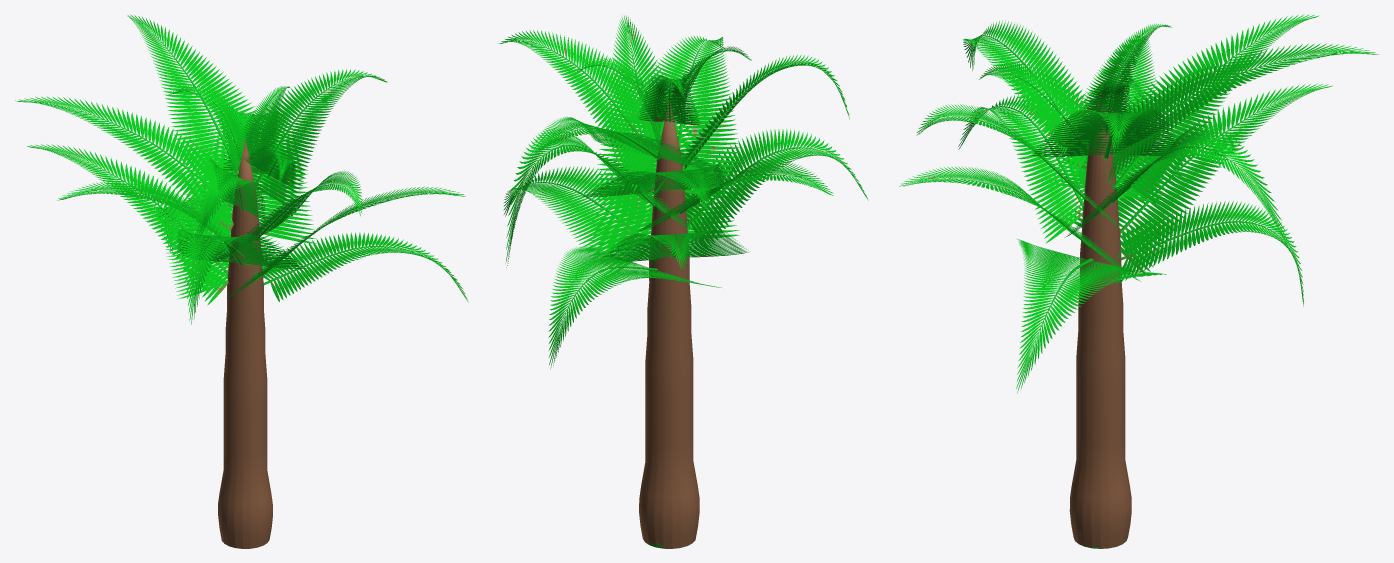
File: Palmera.fbx
The picture shows the model from 3 angles, left to right: view 1: azimuth 30°, elevation 25°; view 2: azimuth 150°, elevation 25°; view 3: azimuth 270°, elevation 25°; orthographic projection. The views are drawn at different scales.
Parts seen in each view (by area): view 1: palmera1; view 2: palmera1; view 3: palmera1.
Boxes of the visible parts, x1,y1,x2,y2 form: palmera1: (15,14,468,548); palmera1: (498,15,868,548); palmera1: (899,14,1379,548).
Bounding box in the file's own units: 13121 × 15563 × 13681.
Materials: 1 (1 with a texture image).
